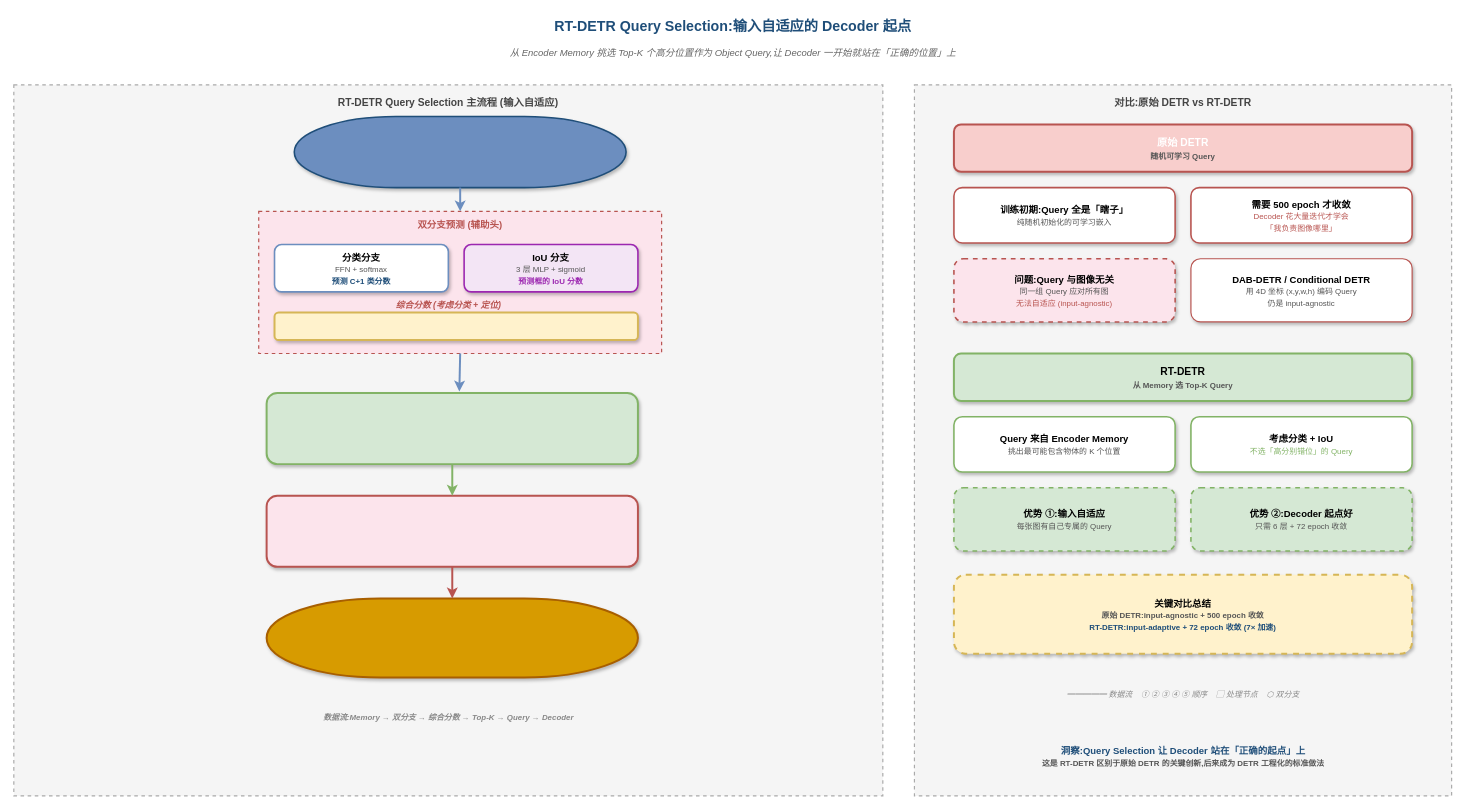
Some shapes in this 1466 by 810 pixel diagram are drawn without their labels. The shapes that lost their labels are listed below. From the top down, each one's centre as x and y in pixels, then its label:
(x=460, y=153): Encoder Memory 来自 Hybrid Encoder 的输出 每个位置:图像局部特征 + 位置信息
(x=456, y=327): score = cls × IoU 同时考虑「分类自信」和「定位精准」
(x=452, y=429): 按综合分数排序,选 Top-K 从 ~8400 个位置中挑出最可能的 K 个 Top-K = 300 个 Object Query
(x=452, y=532): Object Query (输入自适应) 从当前图像 Encoder Memory 动态挑选 每张图都有自己的 300 个 Query
(x=452, y=639): Decoder (6 层可变形注意力) 在 Encoder Memory 上做 Cross-Attention 只需精修,不需要从零学起
